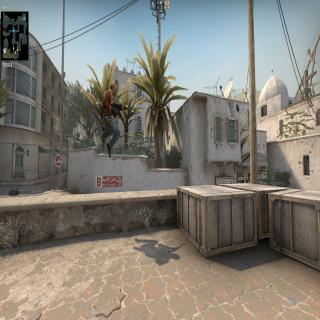T-Head: (109, 82, 117, 98)
